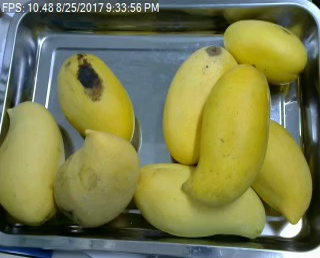Mango: (181, 64, 270, 206), (136, 163, 264, 239), (162, 45, 239, 165), (54, 130, 139, 227), (0, 101, 65, 224), (238, 119, 313, 223), (58, 52, 134, 142), (223, 18, 307, 84)
